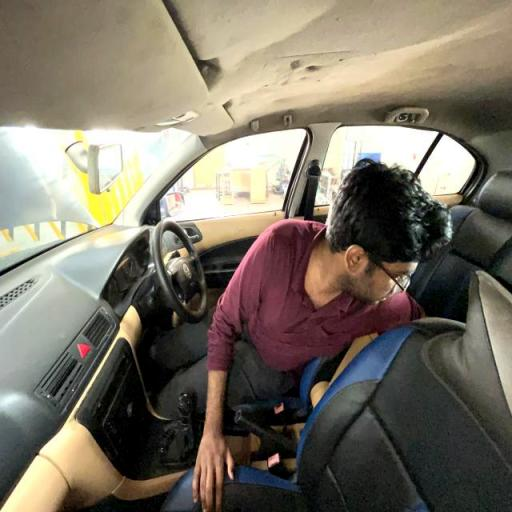Reaching_behind: (162, 154, 453, 424)
